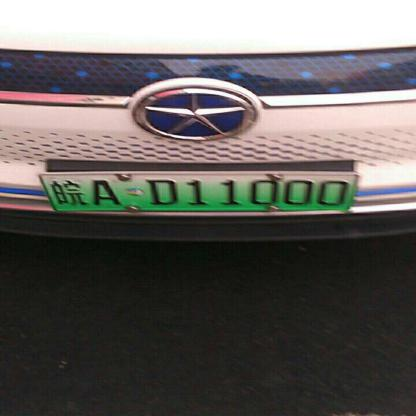lp: (55, 173, 348, 211)
